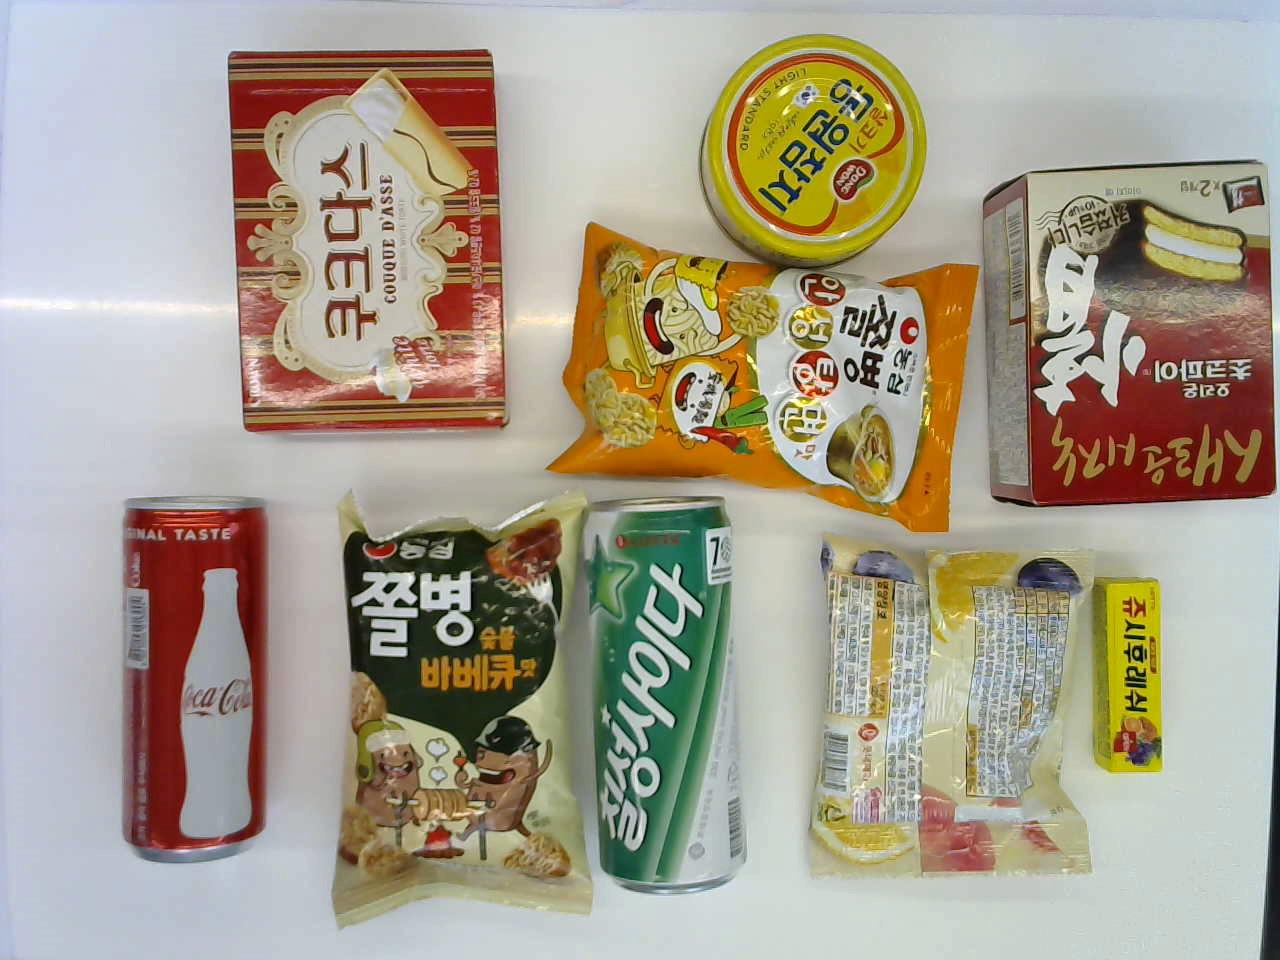chocopie: (972, 135, 1275, 521)
cidar: (584, 494, 754, 904)
coke: (94, 481, 264, 891)
couque_white: (207, 45, 513, 449)
gumi_gumi: (785, 531, 1090, 910)
jjolbyung_ori: (552, 222, 972, 518), (333, 493, 585, 919)
juicyfresh: (1086, 569, 1180, 787)
tuna: (695, 28, 934, 266)
